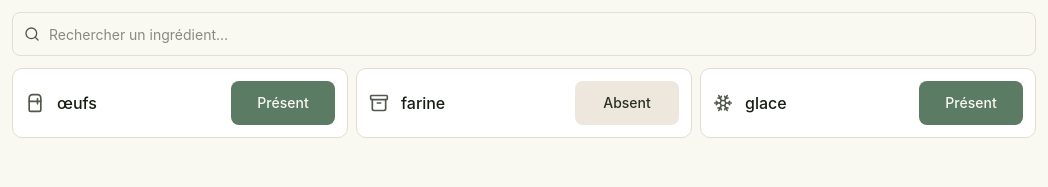
Test: StockGrid › efface la recherche via le bouton clear
Check: the text "œufs" is shown, box [57,91,97,115]
In the search field labelled "Rechercher un ingrédient": [524, 34] box [12,12,1036,56], type "oeuf"
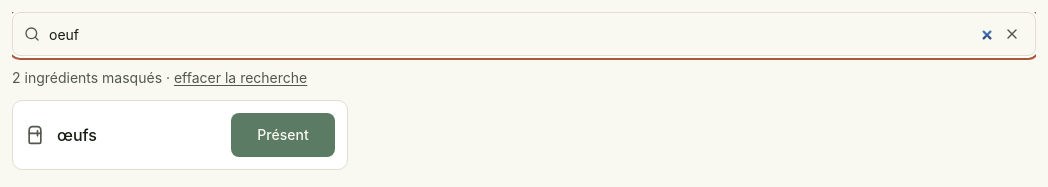
Click the button named "Effacer la recherche": [1012, 34] box [990,12,1034,56]
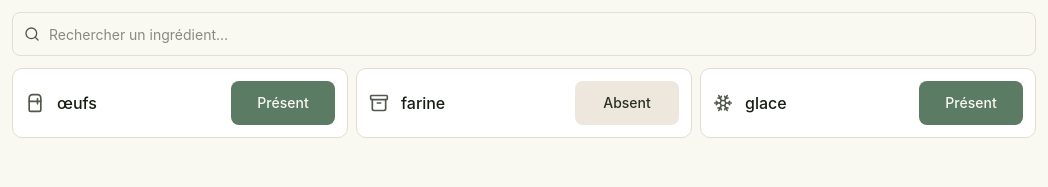
Check: the search field labelled "Rechercher un ingrédient" is empty, box [12,12,1036,56]
Check: the text "farine" is shown, box [401,91,445,115]
